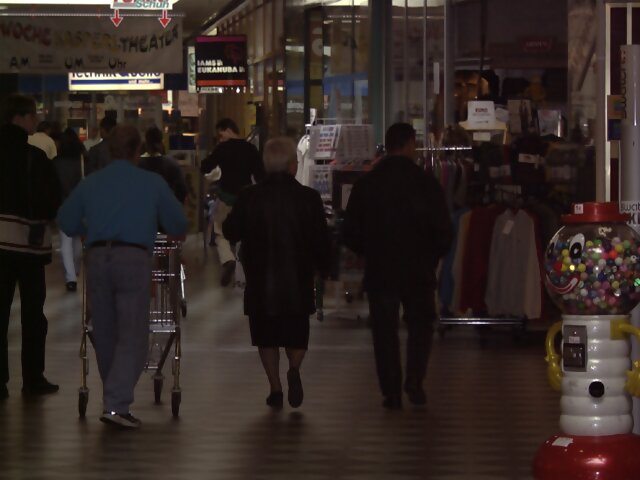person: (57, 122, 192, 419), (343, 120, 465, 411), (224, 132, 330, 408)
